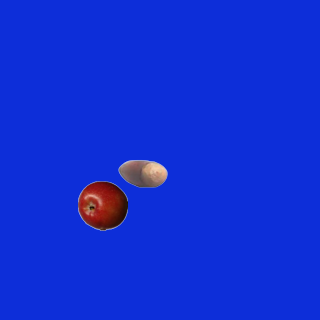Apple Braeburn: (77, 180, 127, 230)
Hazelnut: (117, 148, 167, 198)
